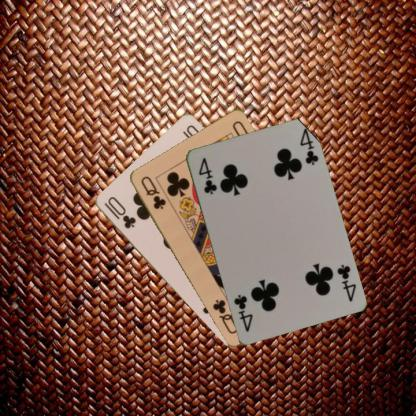10c: (101, 193, 137, 230)
4c: (334, 261, 357, 303), (196, 154, 218, 196)
Qc: (137, 174, 167, 210)
